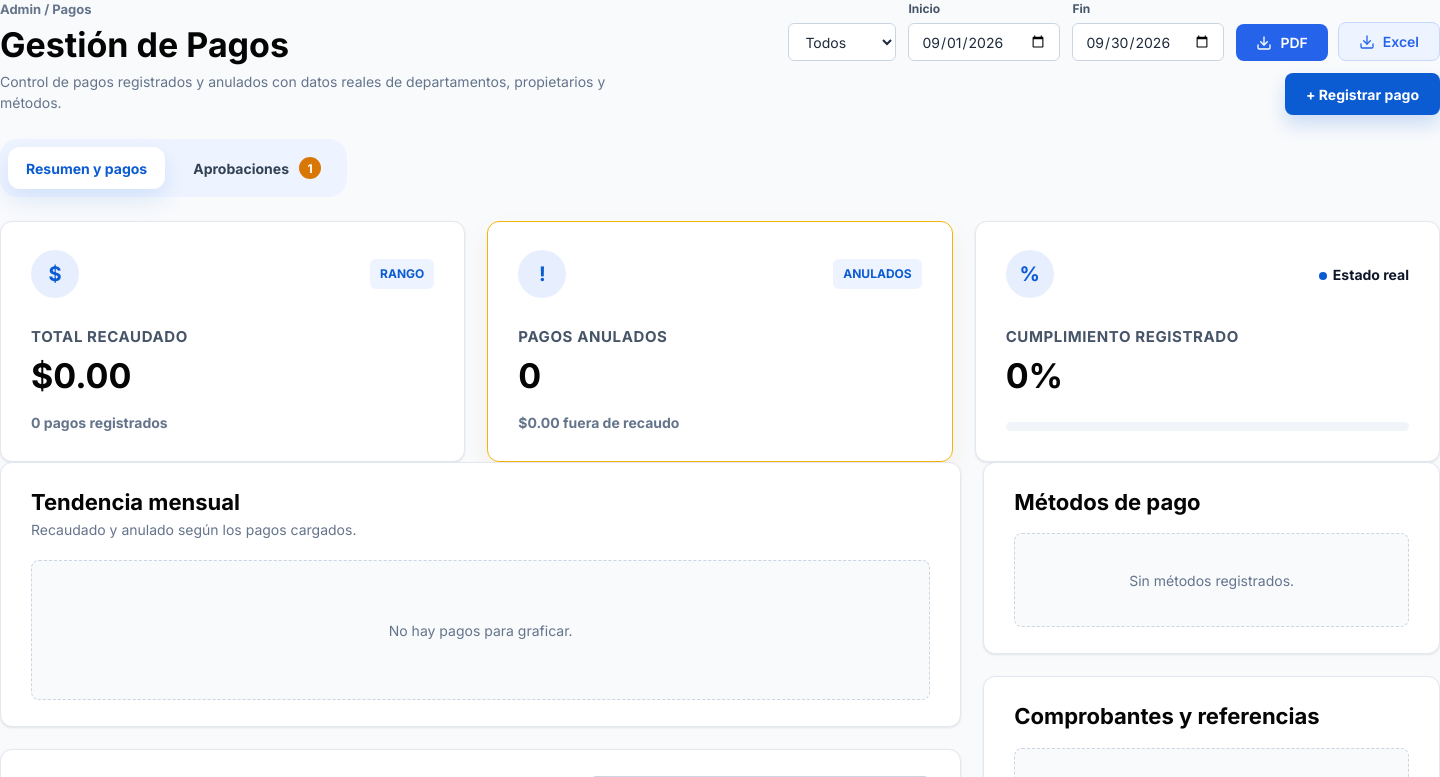
Test: AdminPaymentsPage › carga y renderiza pagos pendientes en la sección administrativa
Click the tab "Aprobaciones 1" at (257, 168), box [175,147,339,189]
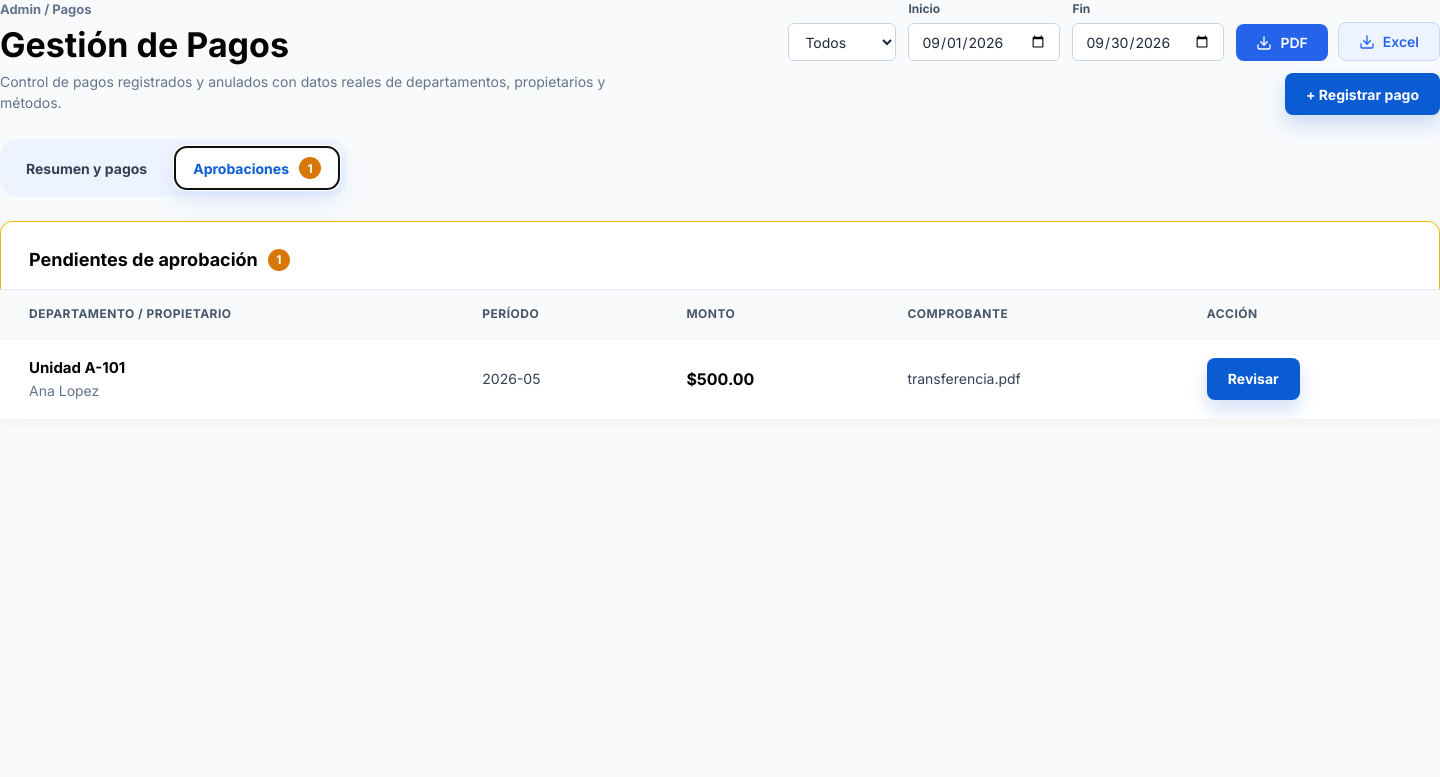
Expected: the heading "Pendientes de aprobación 1" is shown, [29,248,290,270]
Expected: the text "Unidad A-101" is shown, [29,358,125,377]
Expected: the text "Ana Lopez" is shown, [29,382,99,398]
